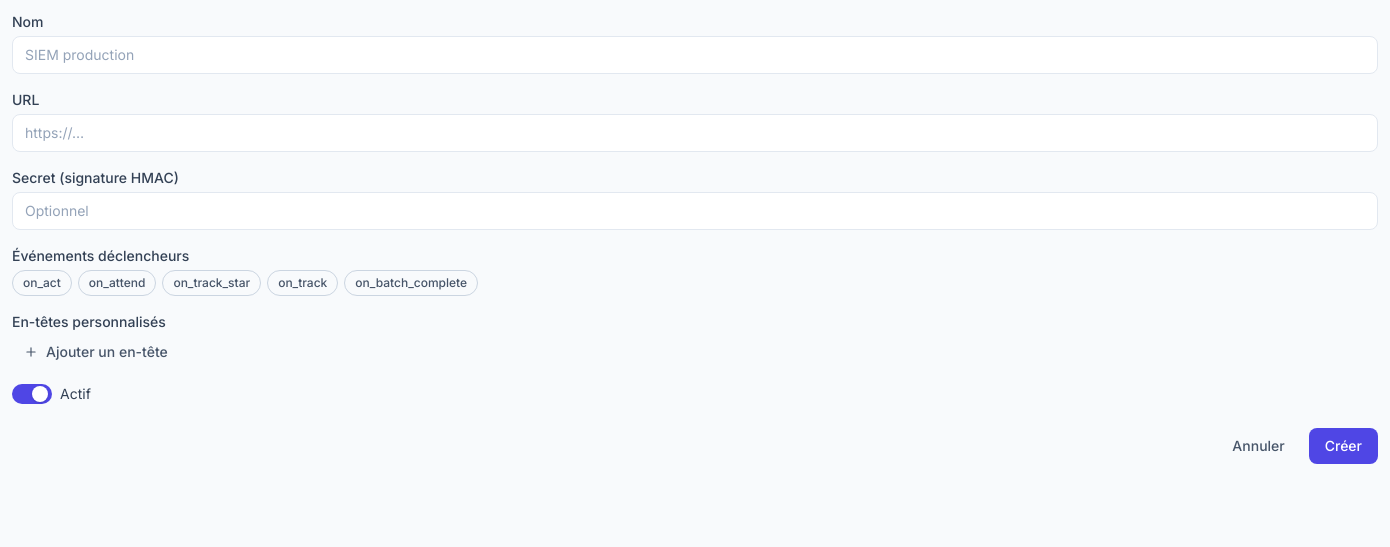
Scenario: WebhookForm › exige nom, URL et au moins un événement
This screenshot has width=1390, height=547.
Step 1. Click the button "Créer" → [1343, 446], box [1309,428,1378,464]
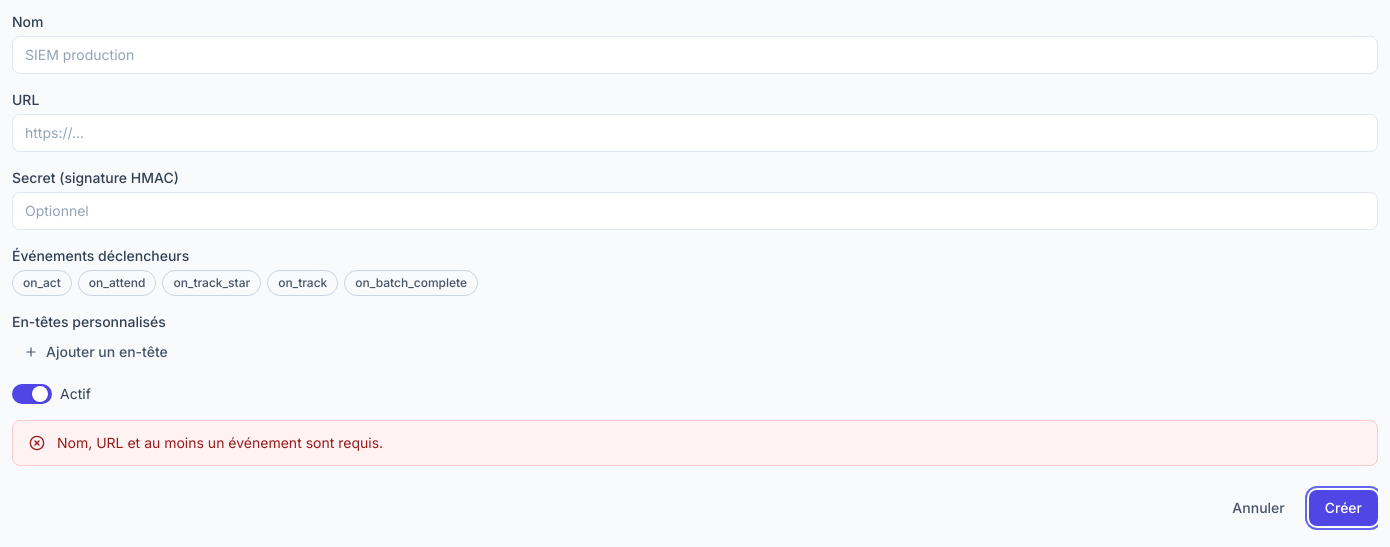
Expected: the message "Nom, URL et au moins un événement sont requis." is shown, [12,420,1378,466]
